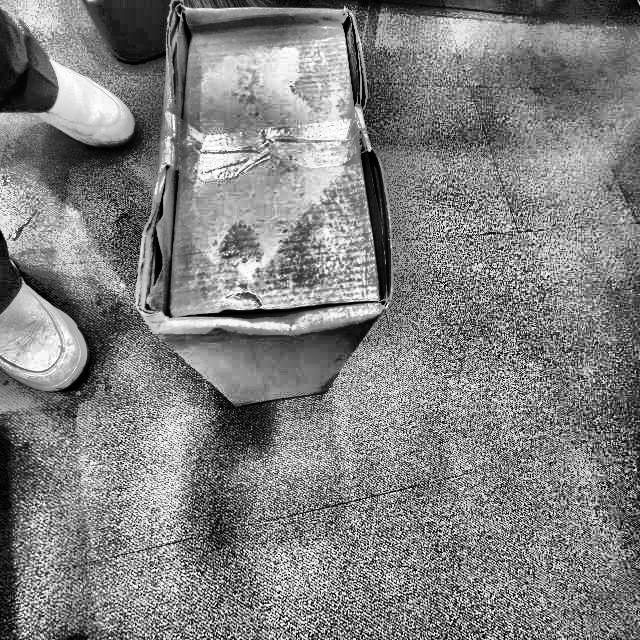box: (126, 0, 402, 418)
wet: (284, 167, 384, 333), (169, 221, 259, 319)
